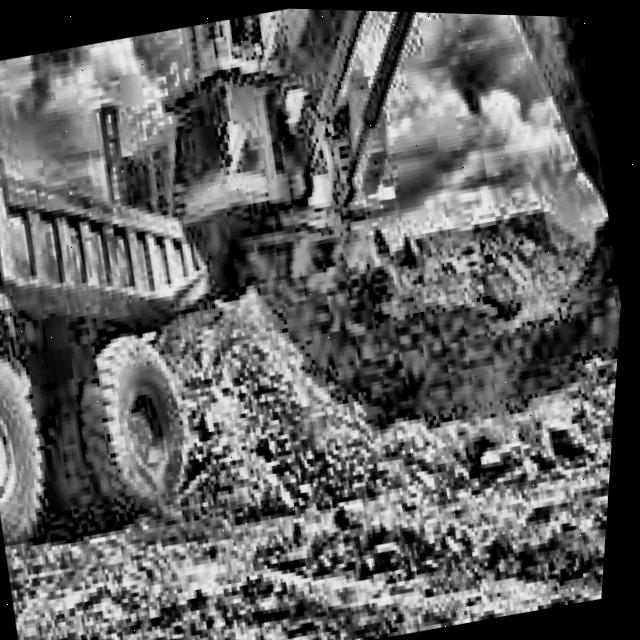dump_truck: (0, 25, 274, 582)
